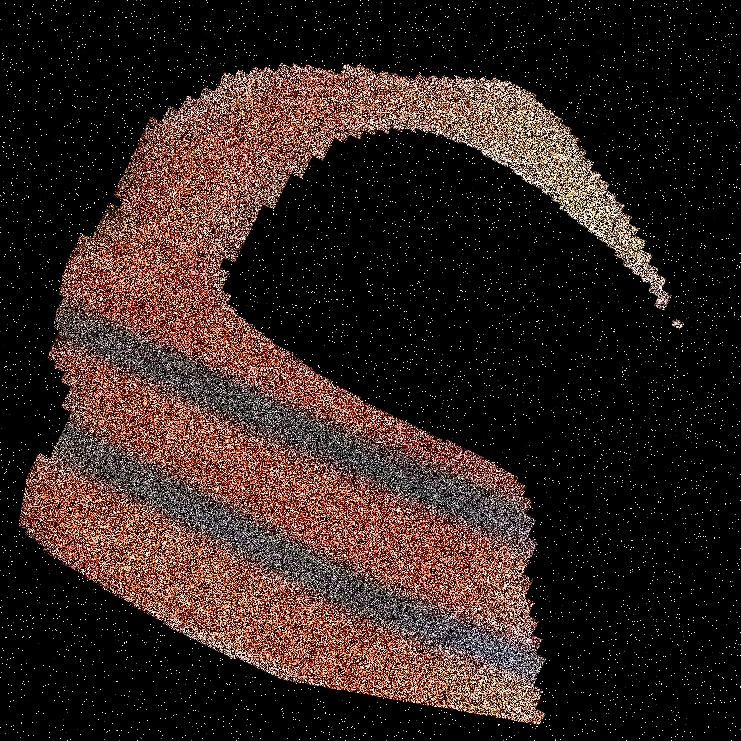Colete: (155, 0, 304, 740)
